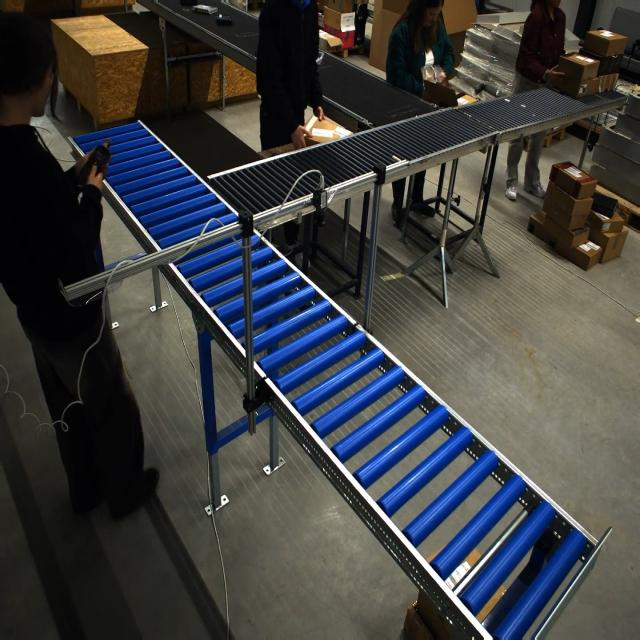box: (312, 114, 350, 145), (421, 80, 460, 110)
product: (192, 4, 218, 15), (216, 14, 232, 24)
